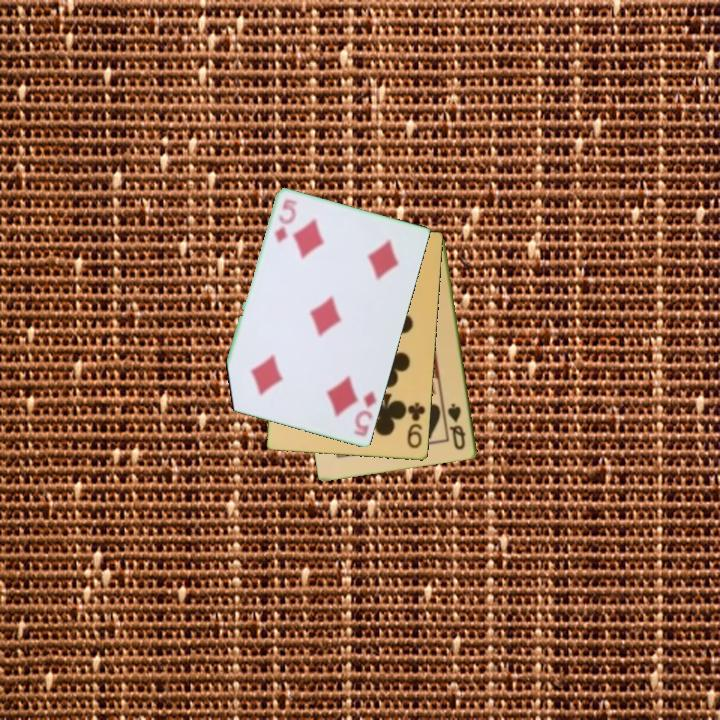5d: (350, 388, 380, 440), (272, 196, 298, 246)
9c: (404, 399, 428, 451)
Qs: (444, 400, 469, 453)
